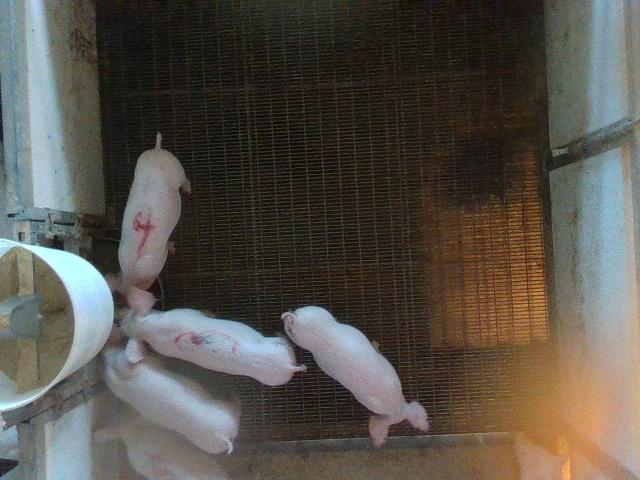pig-3: (122, 286, 306, 385)
pig-4: (119, 140, 190, 290)
